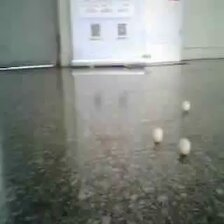w: (176, 138, 190, 154), (152, 127, 165, 144), (181, 101, 191, 111)
